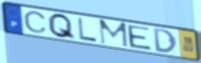C: (23, 10, 49, 34)
D: (152, 27, 179, 54)
E: (126, 24, 153, 52)
L: (76, 17, 99, 43)
M: (98, 19, 130, 49)
Q: (47, 13, 78, 41)
